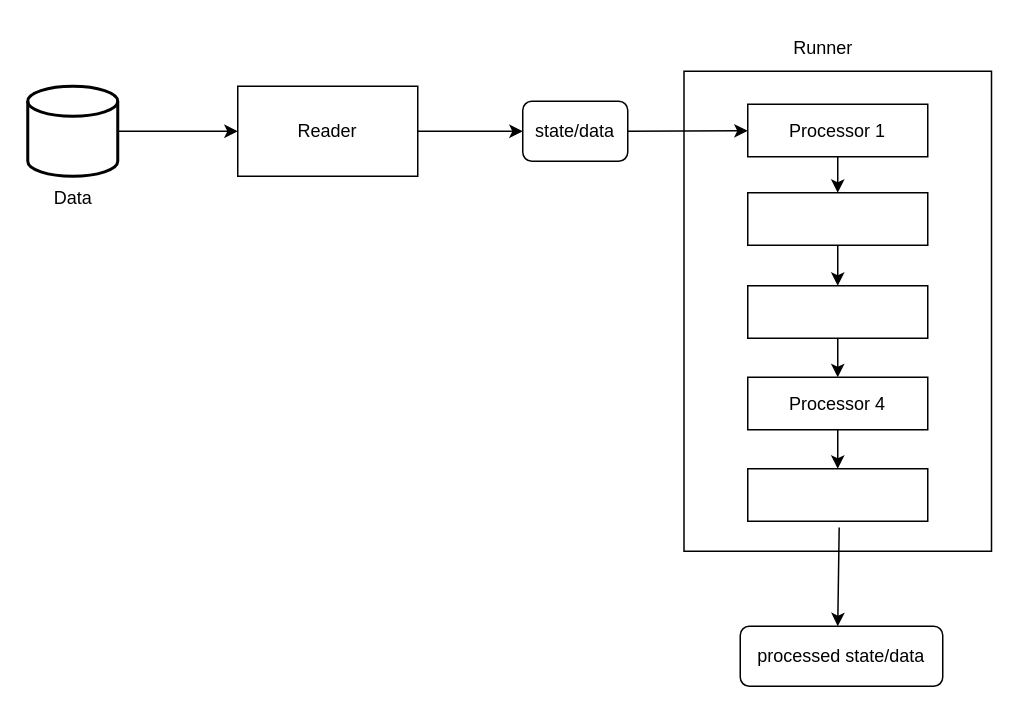
The diagram is 1017 pixels wide and 713 high, and some of its shapes have lost their labels. Here are the shapes that lost their labels. From the top down, the box of each, then its label:
(746, 191, 928, 245): Processor 2
(746, 284, 928, 338): Processor 3
(746, 467, 928, 521): Processor N
